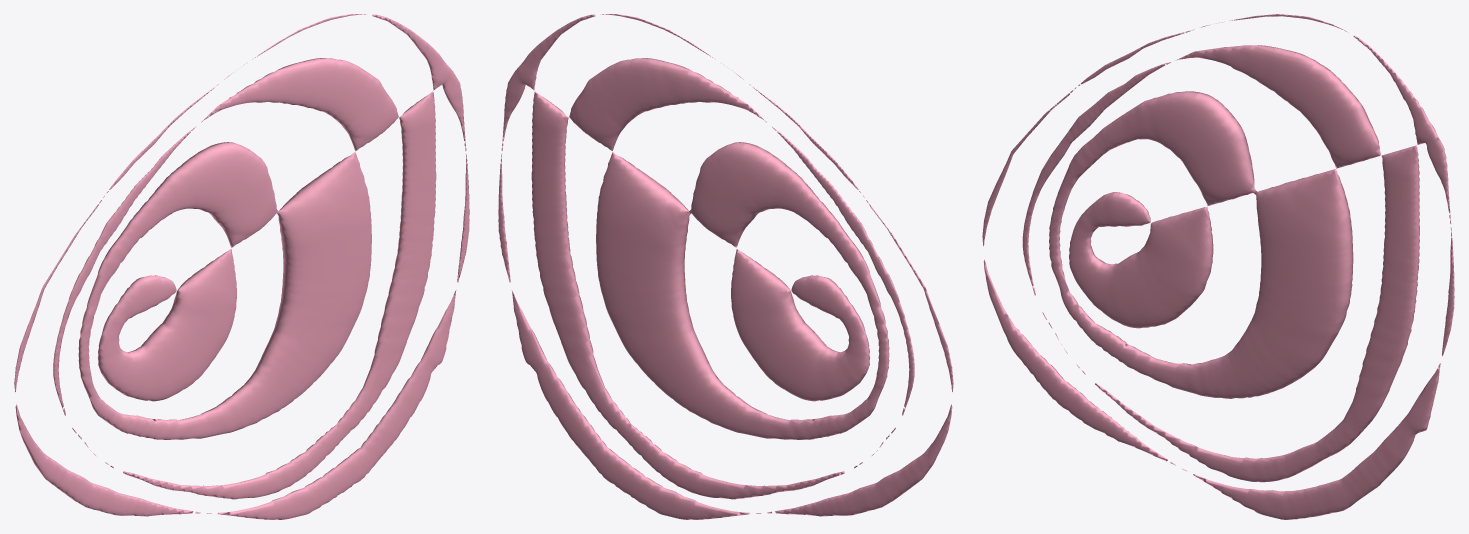
Rendered from Swirl_0.fbx.
The picture shows the model from 3 angles, left to right: view 1: azimuth 30°, elevation 25°; view 2: azimuth 150°, elevation 25°; view 3: azimuth 330°, elevation 25°; orthographic projection. The views are drawn at different scales.
Parts seen in each view (by area): view 1: root; view 2: root; view 3: root.
Part boxes in pixels (left/top/right/bottom): root: left=14, top=14, right=469, bottom=519; root: left=498, top=14, right=953, bottom=519; root: left=982, top=14, right=1454, bottom=519.
Size of the model in its own units: 0.3003 by 0.3095 by 0.0272.
